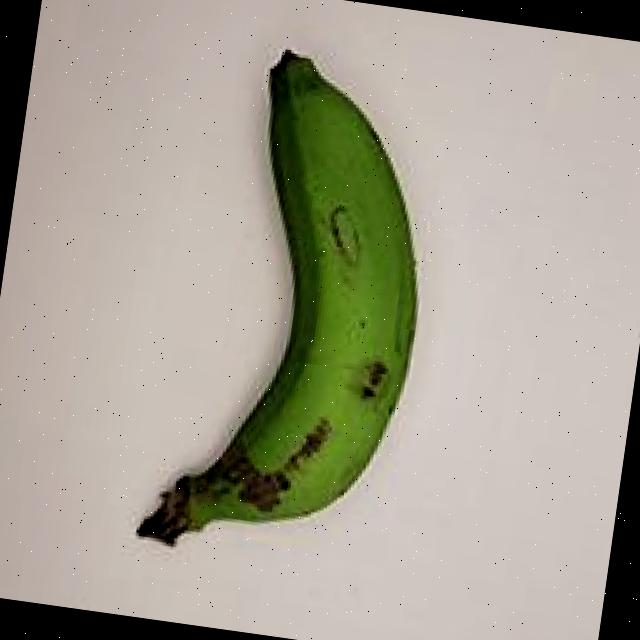Raw: (125, 22, 483, 592)
